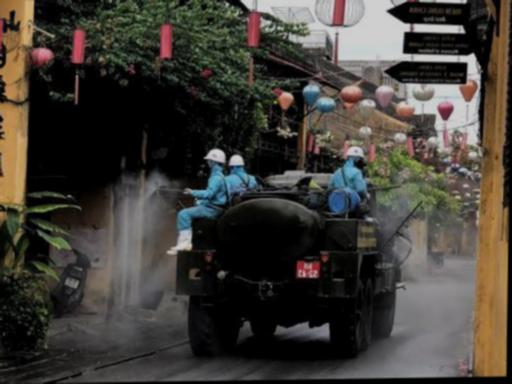License_Plate: (295, 258, 321, 280)
